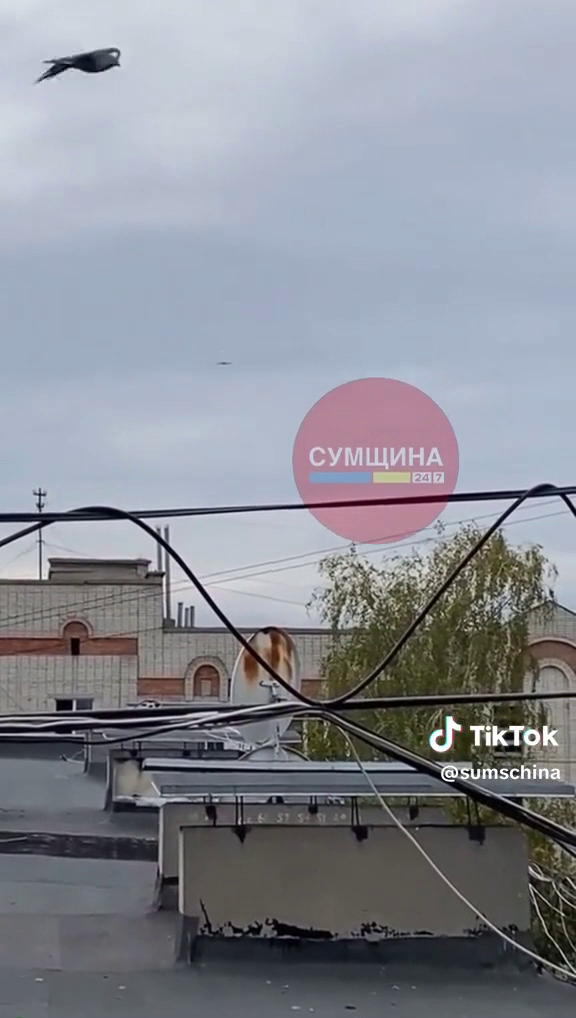not_drone: (18, 22, 138, 102)
